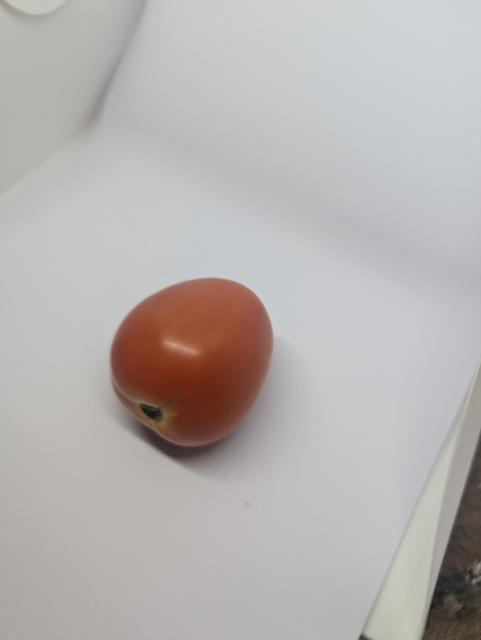red: (95, 256, 285, 466)
